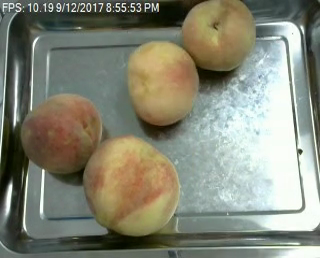Peach: (83, 133, 178, 236), (20, 92, 103, 174), (125, 39, 197, 126), (180, 1, 255, 71)
